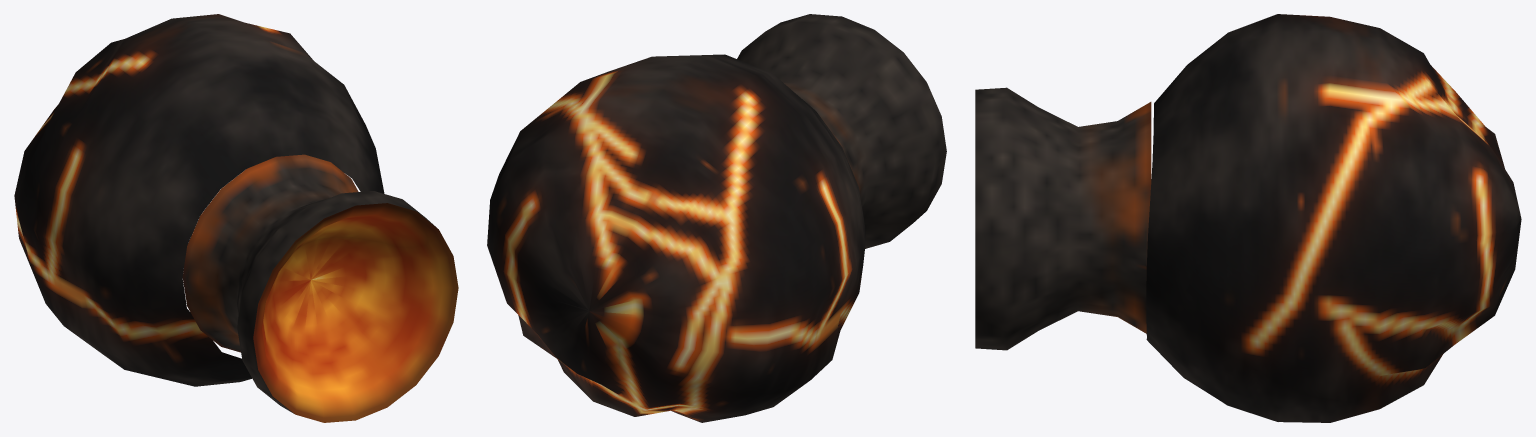
Rendered from crucible.gltf.
3 views of the same model, side by side, from view 1: azimuth 30°, elevation 25°; view 2: azimuth 150°, elevation 25°; view 3: azimuth 270°, elevation 25° (orthographic). The views are drawn at different scales.
Visible parts, largest first — view 1: Crucible; view 2: Crucible; view 3: Crucible.
Part boxes in pixels (box(x1,y1,x2,y2)): Crucible: box(14, 14, 458, 422); Crucible: box(487, 14, 946, 422); Crucible: box(975, 14, 1521, 422).
Bounding box in the file's own units: 9.98 × 10.3 × 13.82.
Materials: 1 (1 with a texture image).
